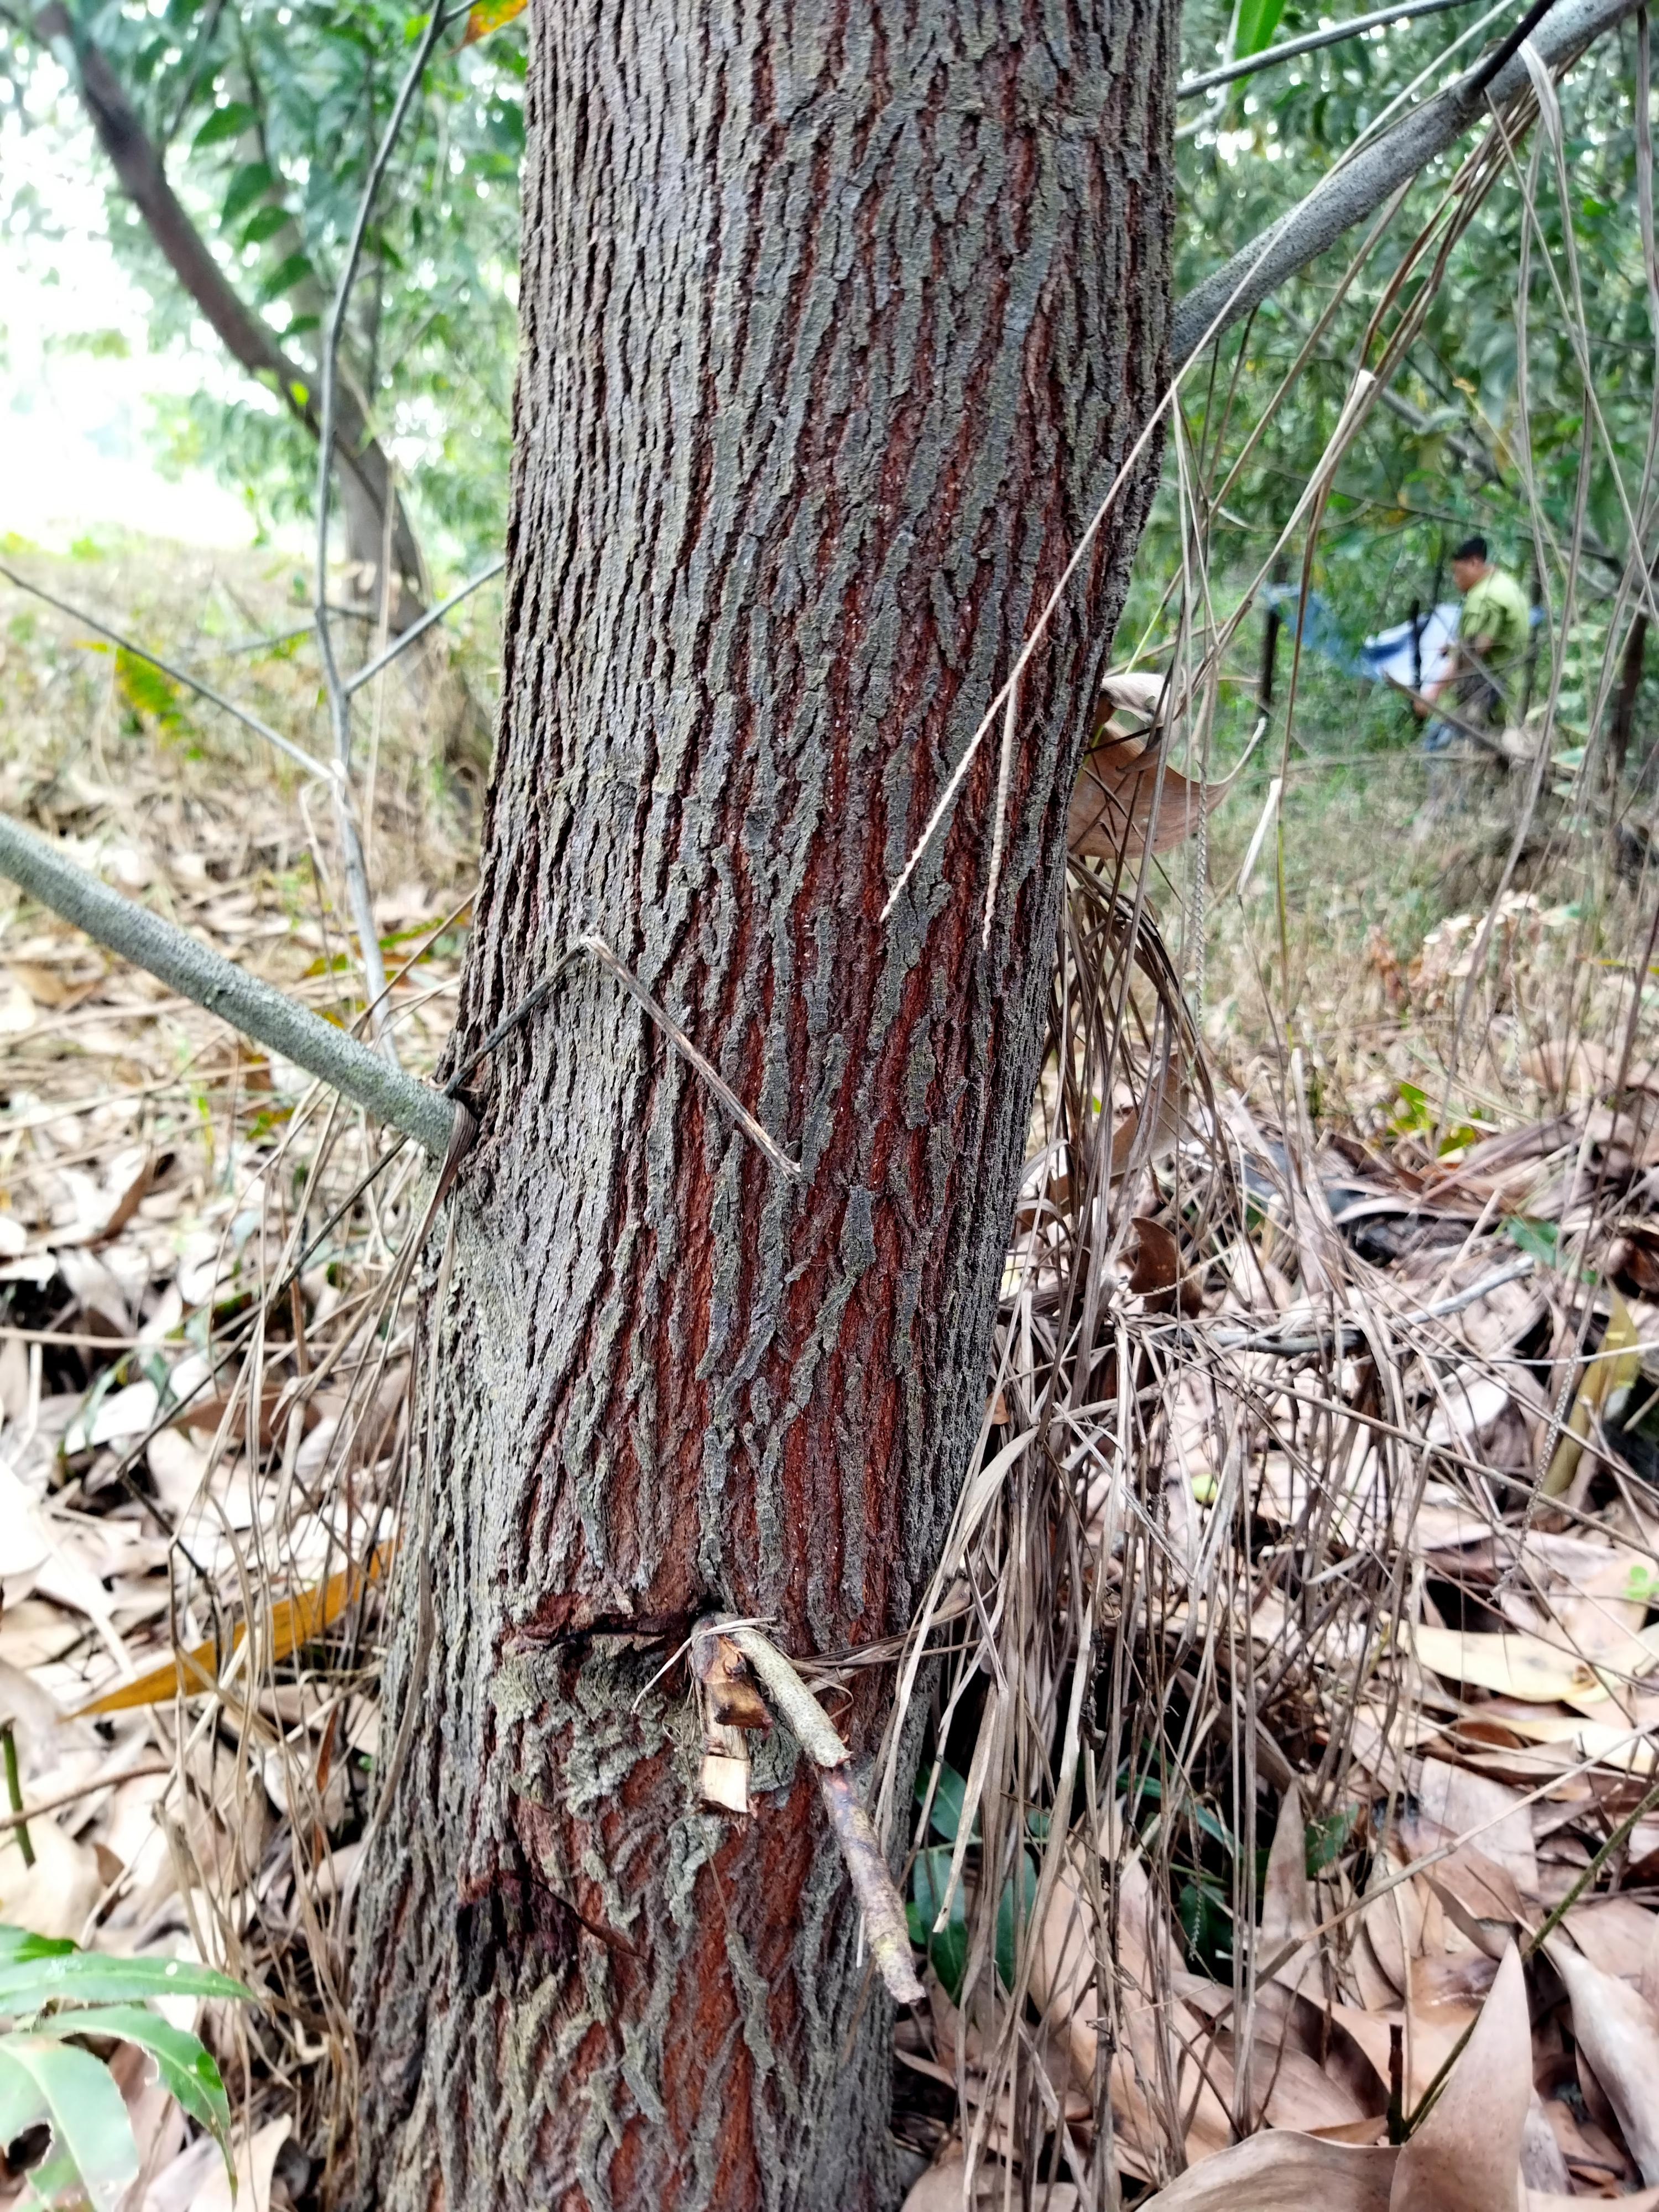Stem Deformation: (537, 266, 922, 2191)
